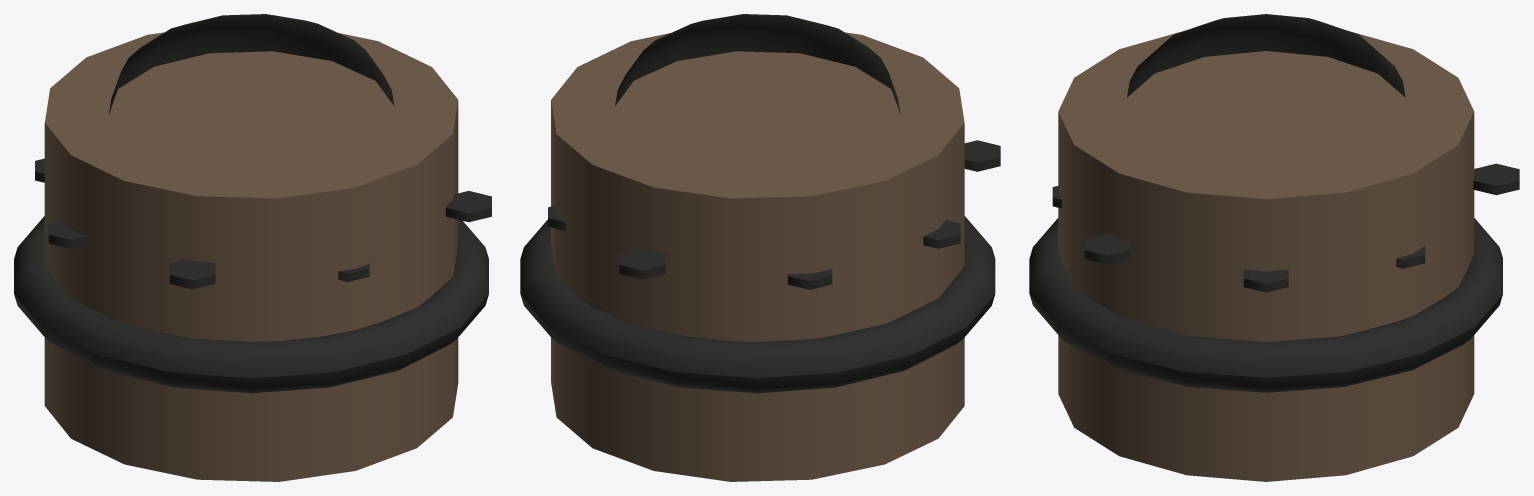
The model's file is brigandine.obj.
3 views of the same model, side by side, from view 1: azimuth 30°, elevation 25°; view 2: azimuth 150°, elevation 25°; view 3: azimuth 270°, elevation 25° (orthographic).
Visible parts, largest first — view 1: brigandine; view 2: brigandine; view 3: brigandine.
Boxes of the visible parts, x1=… form: brigandine: x1=14, y1=14, x2=491, y2=481; brigandine: x1=520, y1=14, x2=1000, y2=481; brigandine: x1=1029, y1=14, x2=1519, y2=481.
Bounding box in the file's own units: 1.48 × 1.18 × 1.51.
